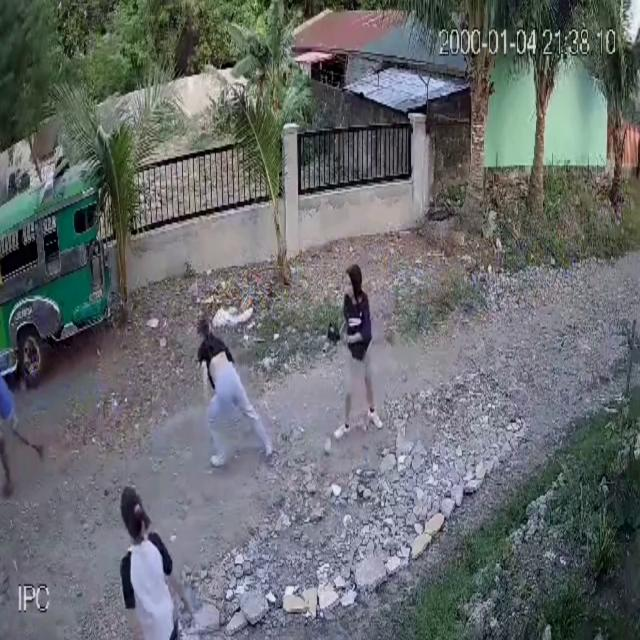running: (192, 315, 276, 471), (118, 480, 192, 640), (324, 261, 386, 442), (0, 342, 47, 505)
